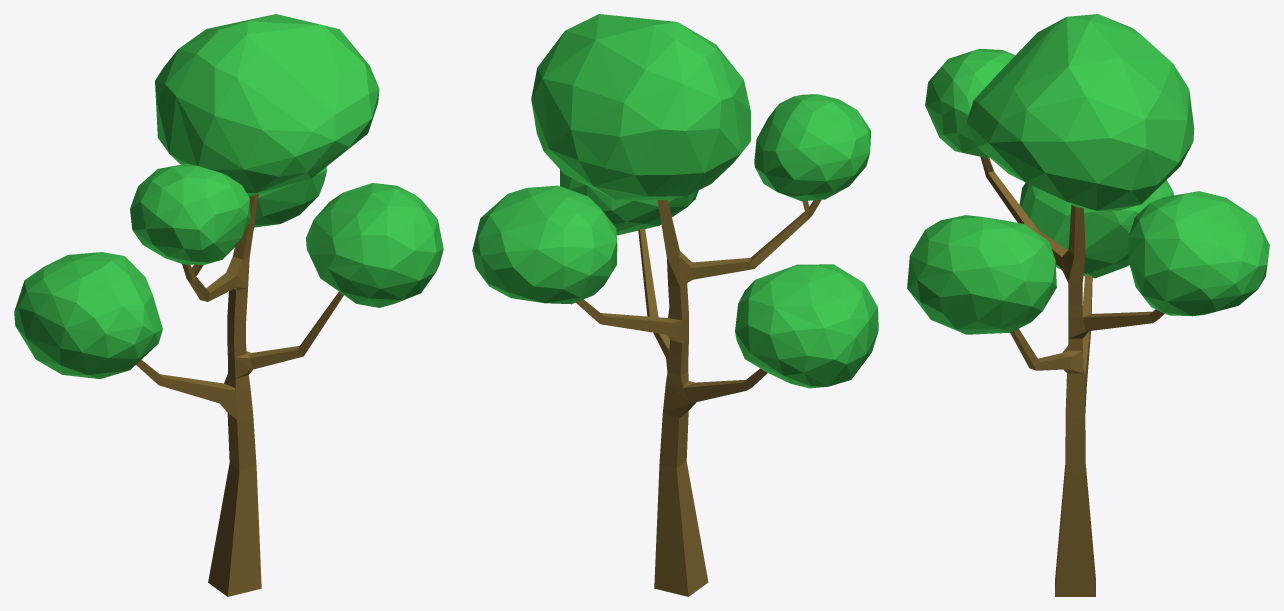
Rendered from ToplaryTree.fbx.
The picture shows the model from 3 angles, left to right: view 1: azimuth 30°, elevation 25°; view 2: azimuth 150°, elevation 25°; view 3: azimuth 270°, elevation 25°; orthographic projection. The views are drawn at different scales.
Parts seen in each view (by area): view 1: Topiary; view 2: Topiary; view 3: Topiary.
Part boxes in pixels (x1,y1,x2,y2): Topiary: [14, 14, 443, 596]; Topiary: [472, 14, 878, 596]; Topiary: [907, 14, 1269, 596].
Size of the model in its own units: 1139 by 1730 by 985.
